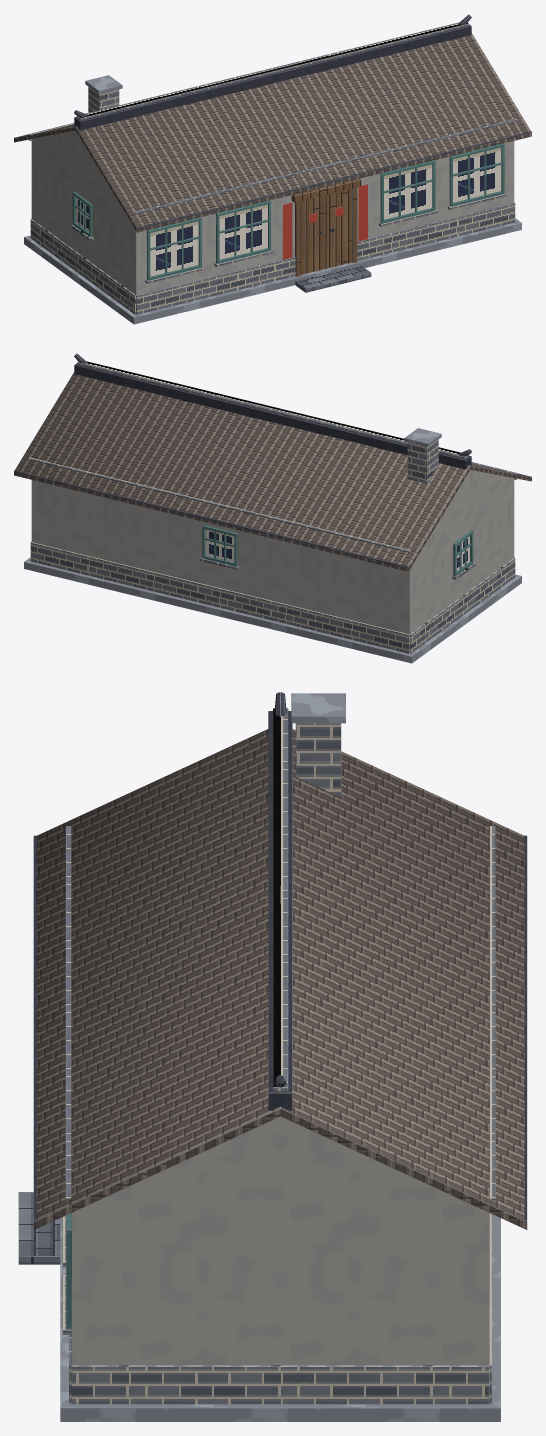
Rendered from cn_brick_house_4.glb.
3 renders of one model, top to bottom at view 1: azimuth 30°, elevation 25°; view 2: azimuth 150°, elevation 25°; view 3: azimuth 270°, elevation 25°, orthographic. The views are drawn at different scales.
Parts seen in each view (by area): view 1: cn_brick_house_5; view 2: cn_brick_house_5; view 3: cn_brick_house_5.
Part boxes in pixels (x1,y1,x2,y2): cn_brick_house_5: [14, 14, 531, 324]; cn_brick_house_5: [14, 353, 531, 663]; cn_brick_house_5: [18, 692, 527, 1421].
Bounding box in the file's own units: 12.07 × 5.4 × 6.7.
Materials: 13 (13 with a texture image).
